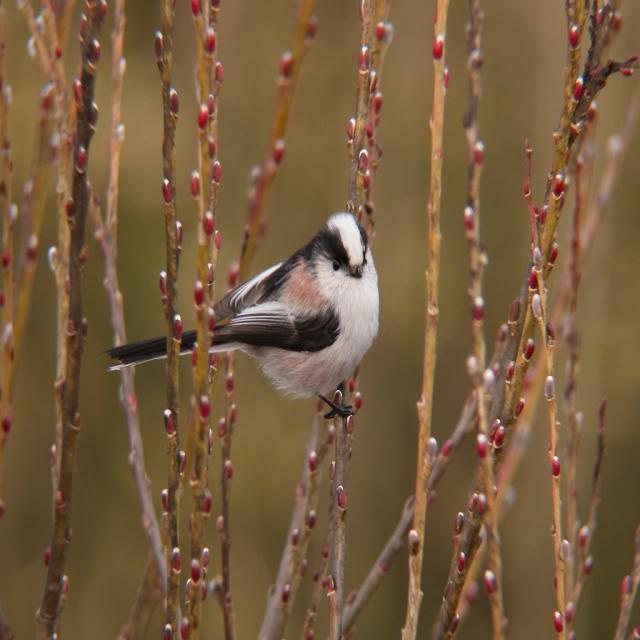bird: (104, 206, 394, 435)
